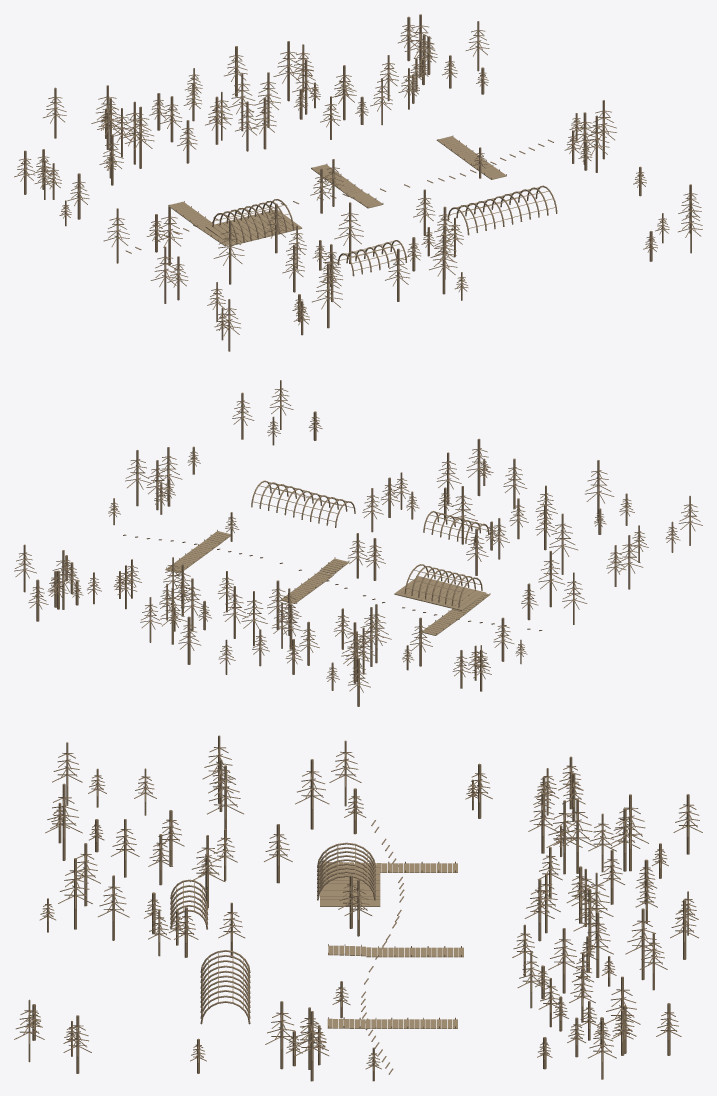
File: ALCHUL_M1_GEOMETRY_05.glb
3 renders of one model, top to bottom at view 1: azimuth 30°, elevation 25°; view 2: azimuth 150°, elevation 25°; view 3: azimuth 270°, elevation 25°, orthographic. The views are drawn at different scales.
Parts seen in each view (by area): view 1: m1__wood, m1__wood_light; view 2: m1__wood, m1__wood_light; view 3: m1__wood, m1__wood_light.
Part boxes in pixels (bbox=[...]): m1__wood: bbox=[14, 14, 702, 351]; m1__wood_light: bbox=[168, 136, 555, 270]; m1__wood: bbox=[14, 380, 702, 706]; m1__wood_light: bbox=[165, 481, 489, 635]; m1__wood: bbox=[14, 735, 702, 1081]; m1__wood_light: bbox=[171, 845, 463, 1028].
Size of the model in its own units: 114 by 15.1 by 114.
